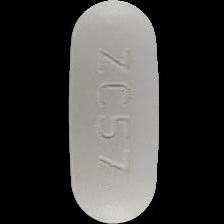68382-017: (0, 0, 224, 224)
